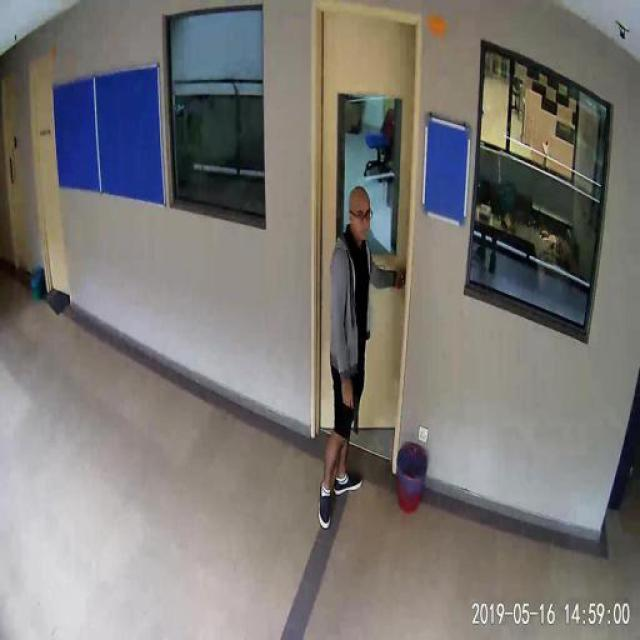weapon: (350, 388, 361, 434)
